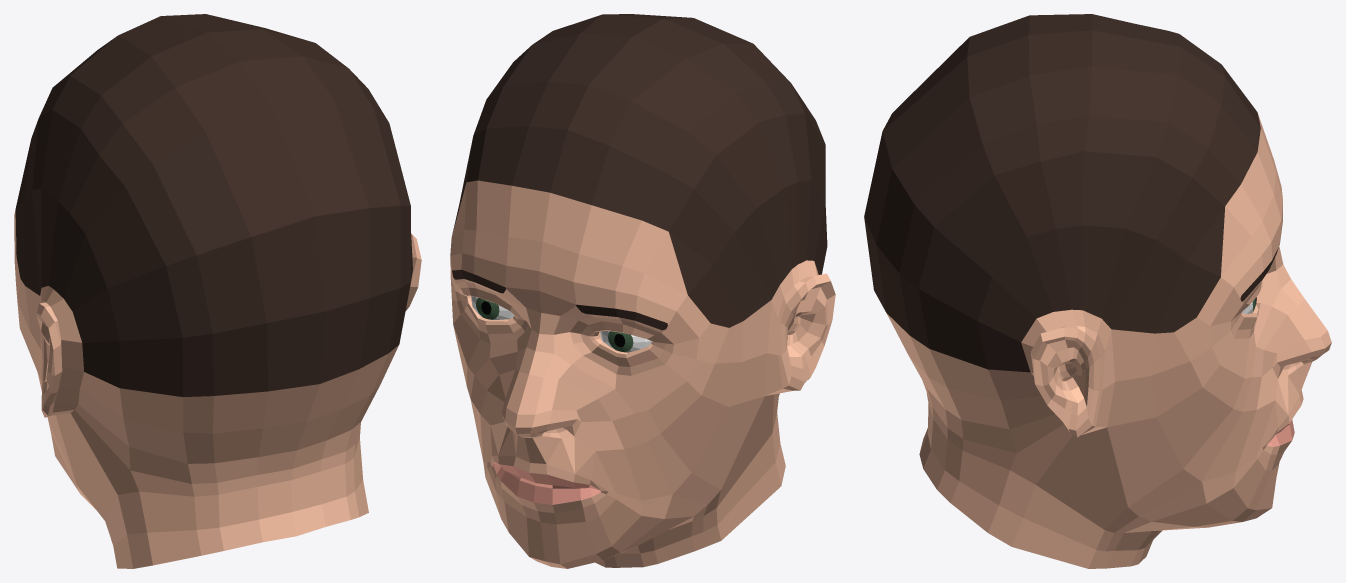
File: head.fbx
3 views of the same model, side by side, from view 1: azimuth 30°, elevation 25°; view 2: azimuth 150°, elevation 25°; view 3: azimuth 270°, elevation 25° (orthographic). The views are drawn at different scales.
Visible parts, largest first — view 1: head; view 2: head, left eye, right eye; view 3: head.
Boxes of the visible parts, x1=… form: head: x1=14, y1=14, x2=421, y2=568; head: x1=450, y1=14, x2=835, y2=568; left eye: x1=600, y1=331, x2=651, y2=352; right eye: x1=471, y1=296, x2=514, y2=319; head: x1=864, y1=14, x2=1331, y2=568.
Bounding box in the file's own units: 0.2155 × 0.3022 × 0.2451.
